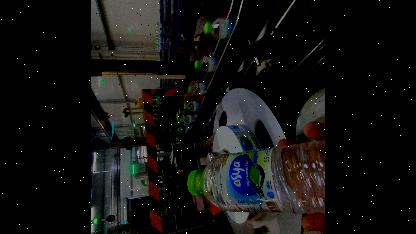Plastic Bottle: (188, 141, 324, 213)
